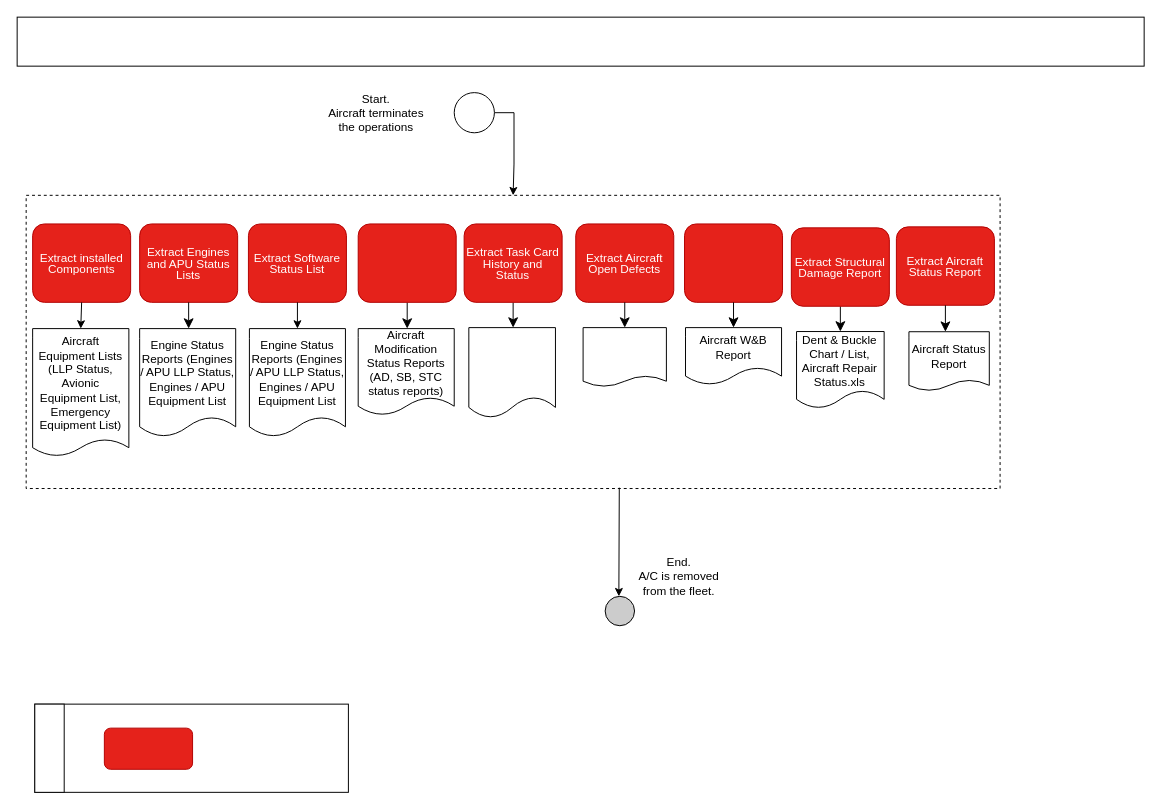
Image size: 1161x809. Some labels were removed from this diagram. Here are the shapes that lost their labels. From the top down, the centre of each, then its label:
[580,41]: 02.02 - Aircraft Phase-out - ACI
[406,262]: Extract Aircraft Modification Status Report
[733,262]: Extract Aircraft W&B Status Report
[511,372]: Task Card History Report, MPD Compliance Report
[624,357]: Deferred Defects Status
[49,747]: LEGEND
[148,748]: Fleet Engineering
